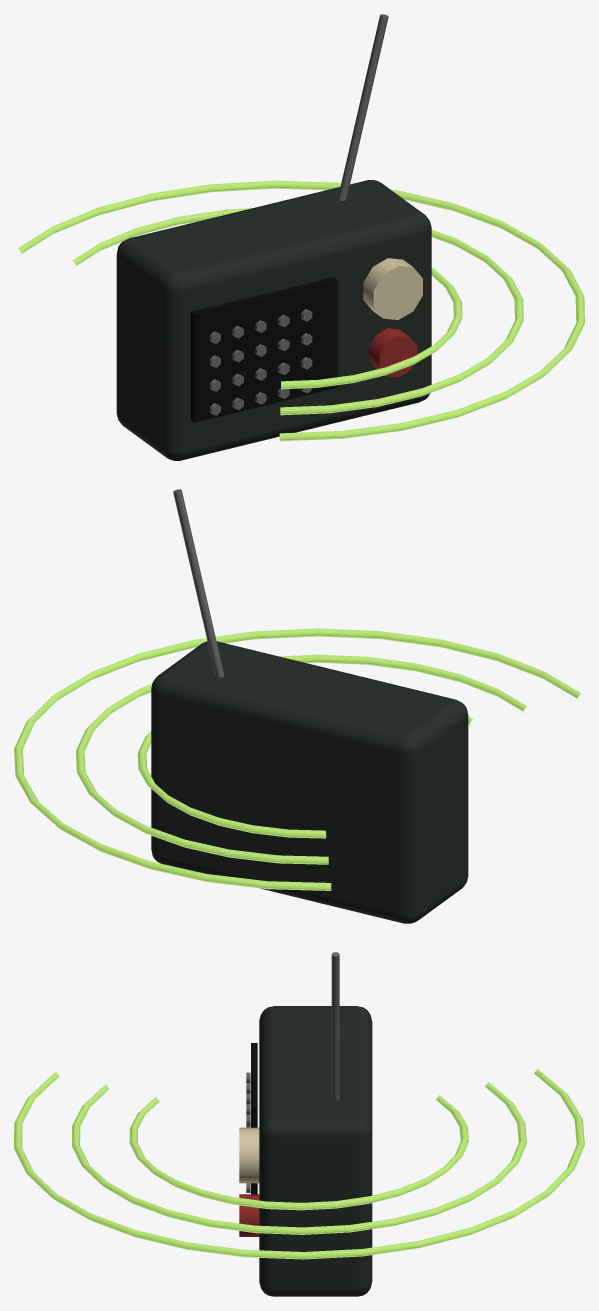
Rendered from ucb_noise_decoy_radio_psx.glb.
The picture shows the model from 3 angles, top to bottom: view 1: azimuth 30°, elevation 25°; view 2: azimuth 150°, elevation 25°; view 3: azimuth 270°, elevation 25°; orthographic projection. The views are drawn at different scales.
Parts seen in each view (by area): view 1: radio_case, speaker_grille, sound_wave (×3), tuning_knob, antenna, noise_button; view 2: radio_case, sound_wave (×3), antenna; view 3: radio_case, sound_wave (×3), antenna, tuning_knob, speaker_grille, noise_button.
Boxes of the visible parts, x1,y1,x2,y2 form: radio_case: [116, 180, 431, 460]; speaker_grille: [190, 277, 337, 422]; sound_wave (×3): [18, 180, 584, 441]; tuning_knob: [363, 258, 422, 319]; antenna: [337, 14, 388, 200]; noise_button: [369, 328, 417, 377]; radio_case: [151, 641, 468, 923]; sound_wave (×3): [14, 628, 580, 890]; antenna: [173, 489, 224, 677]; radio_case: [259, 1006, 372, 1296]; sound_wave (×3): [14, 1069, 584, 1259]; antenna: [331, 952, 339, 1100]; tuning_knob: [239, 1127, 259, 1183]; speaker_grille: [251, 1043, 257, 1194]; noise_button: [239, 1194, 259, 1236].
Bounding box in the file's own units: 2.65 × 2.27 × 3.44.
